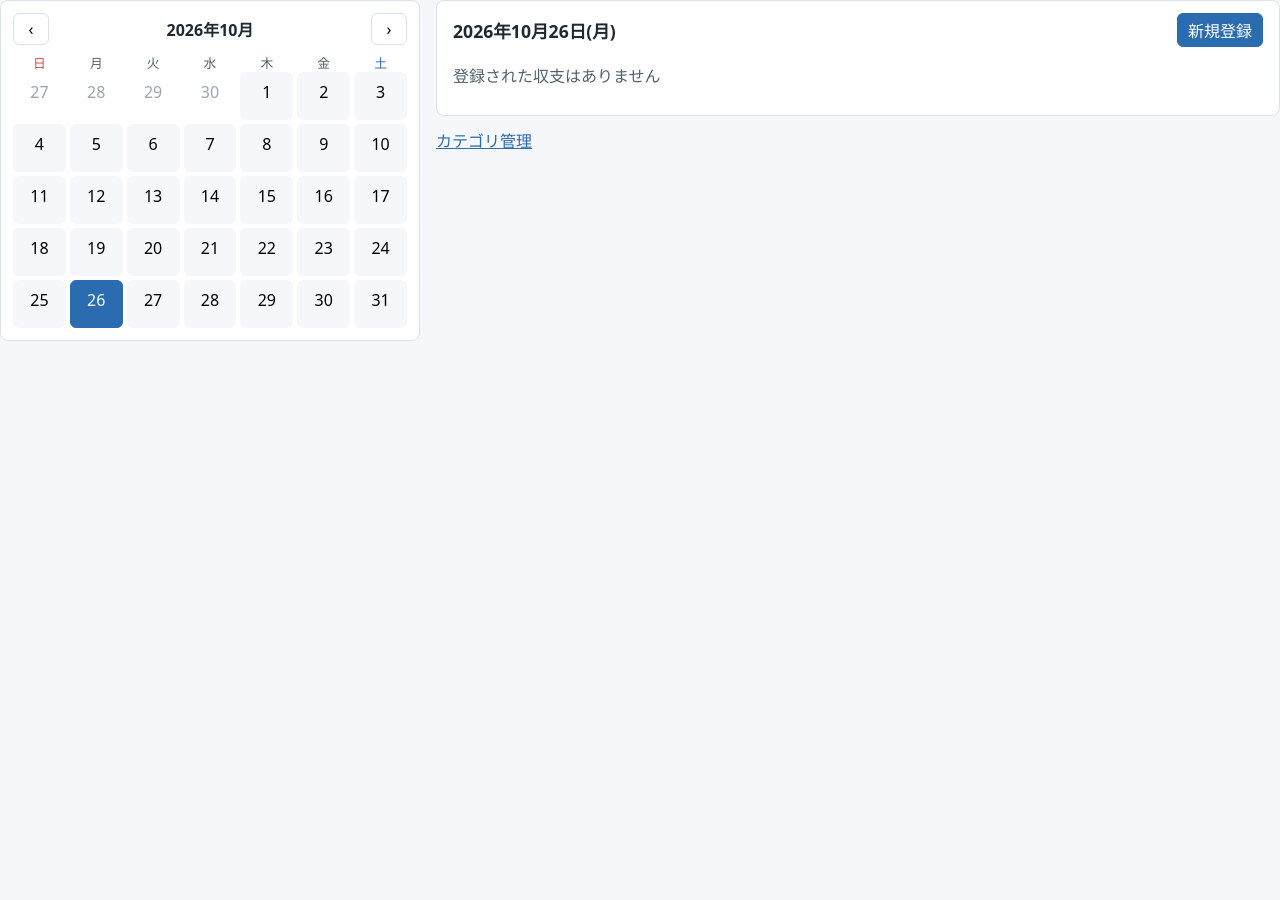
Scenario: CalendarView › creates a transaction from the dialog and refreshes the list and markers
The width and height of the screenshot is (1280, 900).
新規登録ダイアログにカレンダーは出ない。日付は先にメインのカレンダーで選ぶ
Click the 2nd button "27": (153, 304) [127,280,180,328]
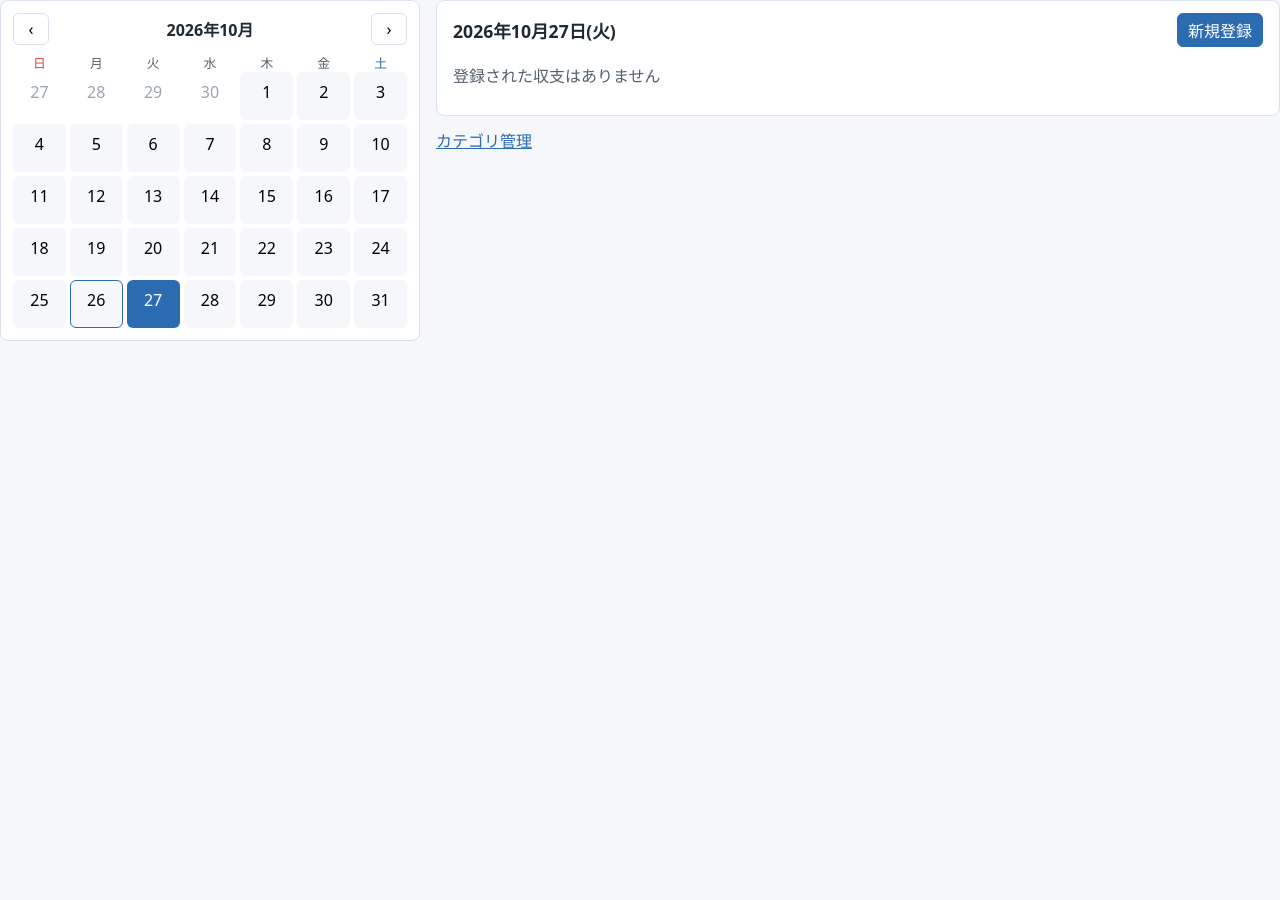
Click the button "新規登録": (1220, 30) [1177,13,1263,47]
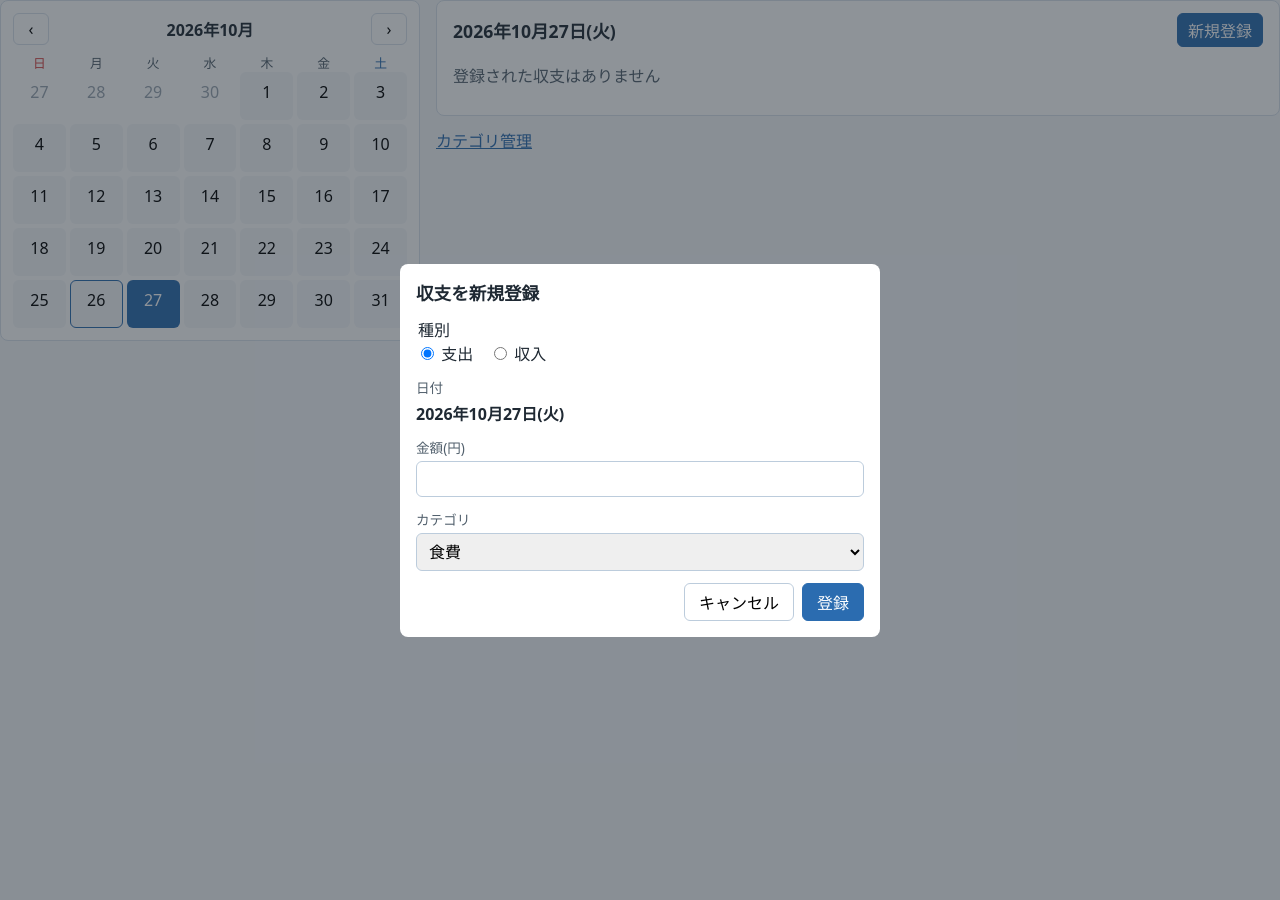
Result: the text with test id "date-label" reads "2026年10月27日(火)" at [416,402,564,424]
In the field named "amount": (640, 478) [416,460,864,496], type "800"
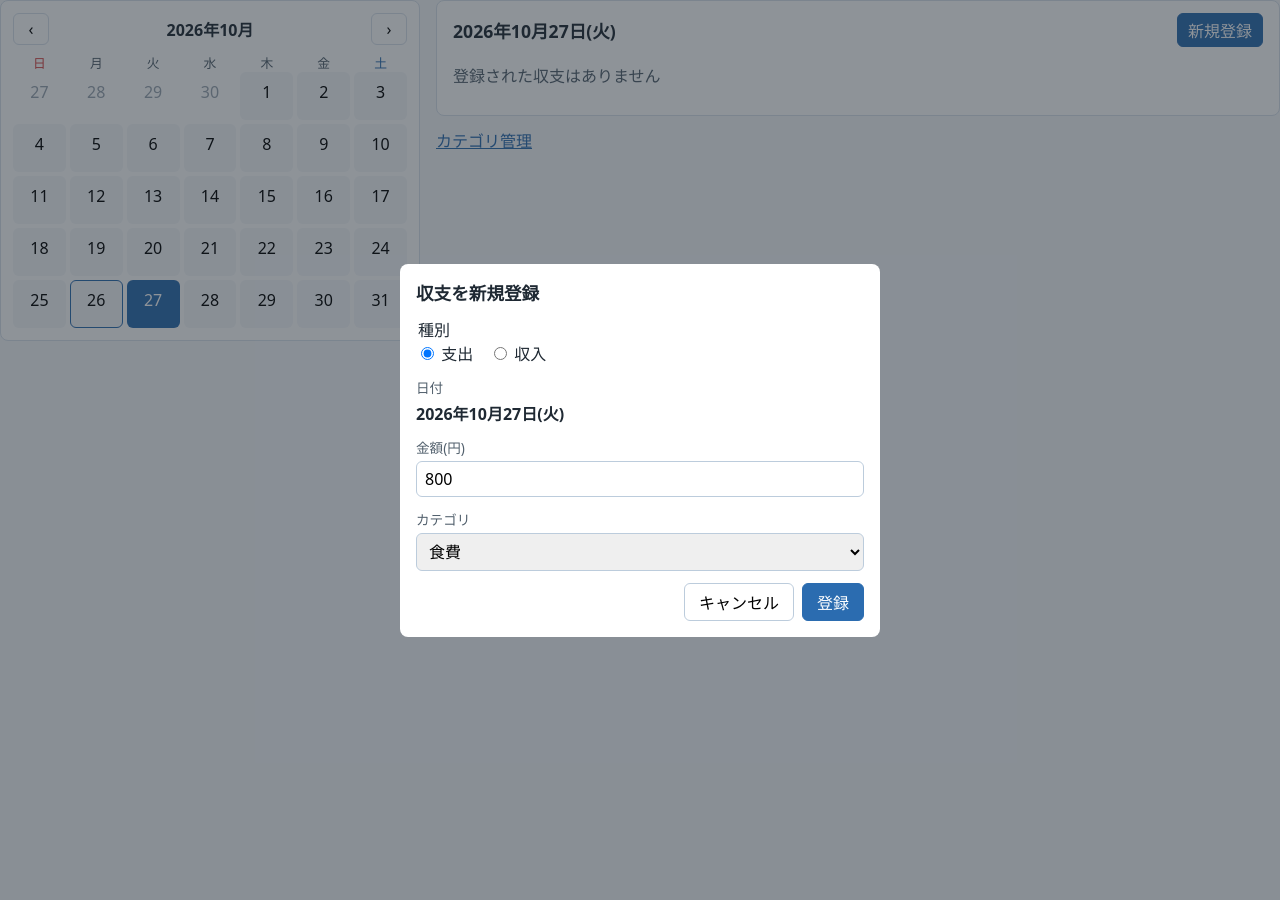
Submit the form, box [416,280,864,620]
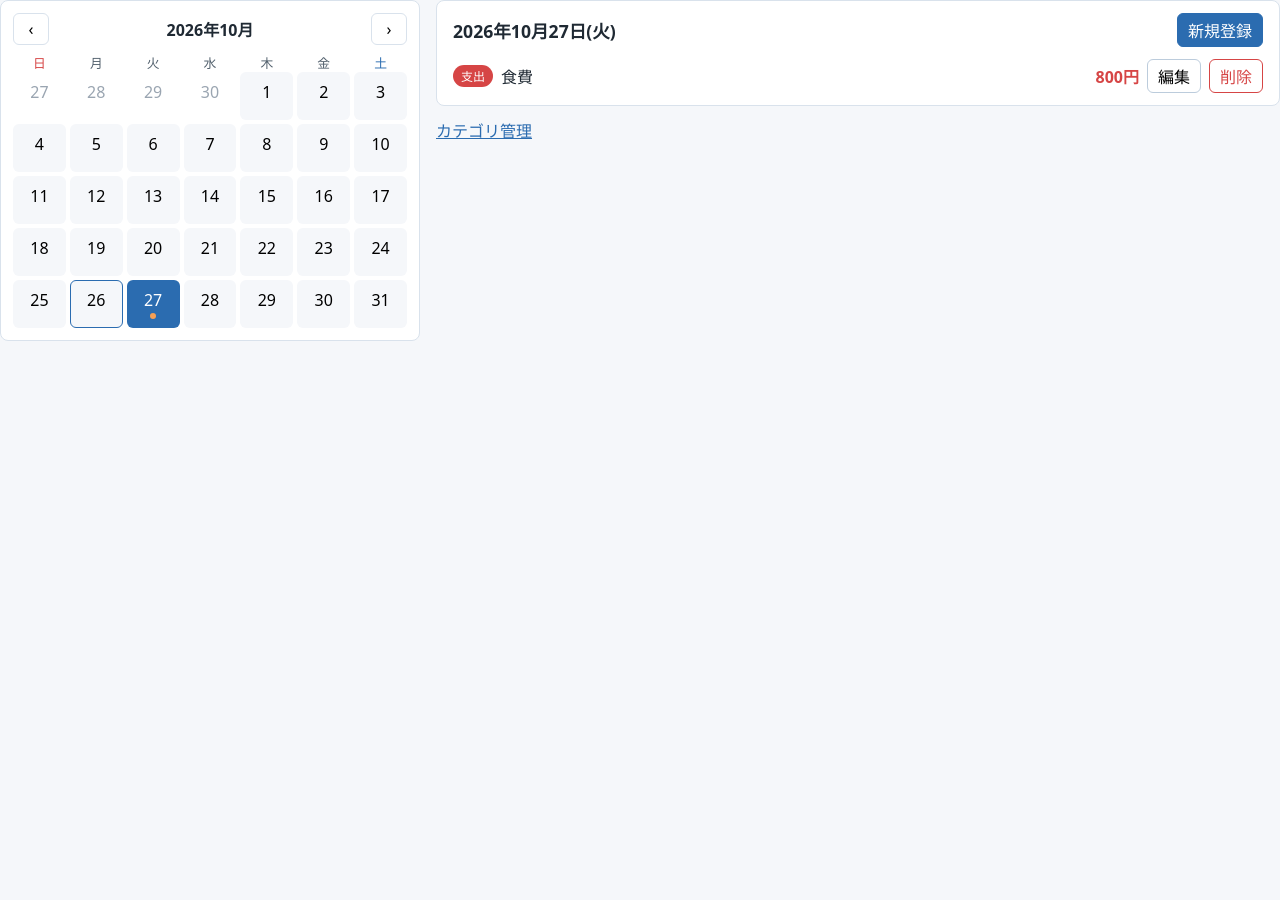
Result: the element with class "day-header" shows "2026年10月27日(火)" at [453,18,616,42]
Result: the list item "支出 食費 800円 編集 削除" is shown at [453,59,1263,93]
Result: the number of elements with test id "marker-expense" is 1 at [150,313,156,319]
